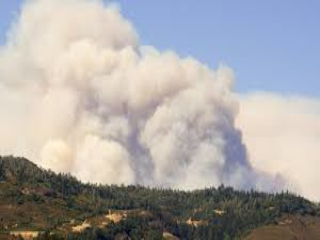smoke: (86, 43, 256, 185)
